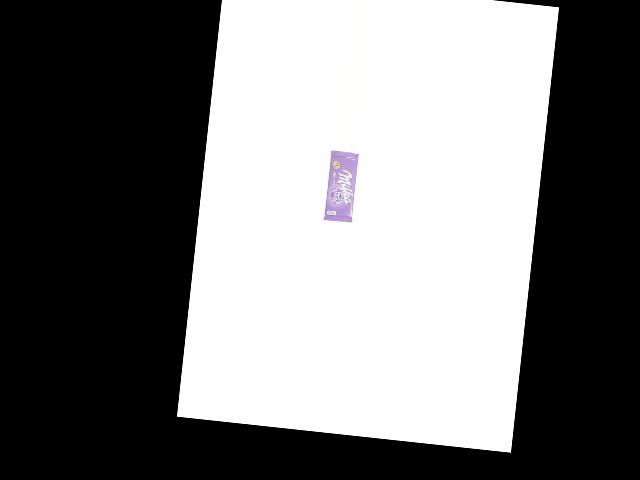chocolate: (319, 149, 360, 226)
